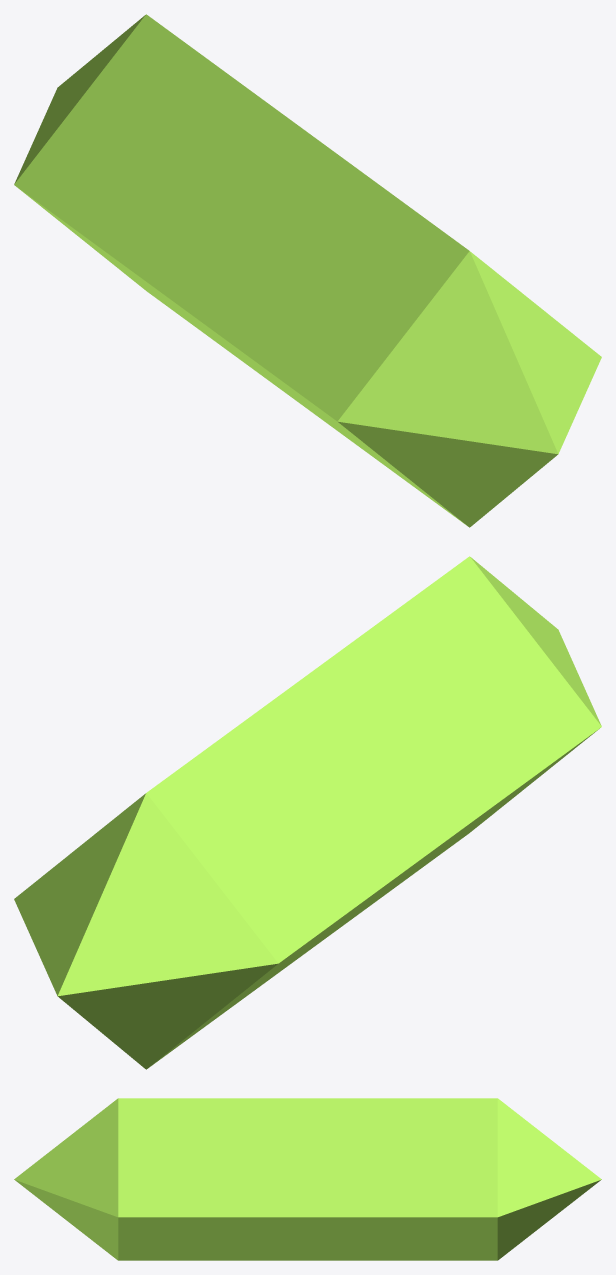
File: Raw Crystal.glb
3 views of the same model, one above another, from view 1: azimuth 30°, elevation 25°; view 2: azimuth 150°, elevation 25°; view 3: azimuth 270°, elevation 25° (orthographic). The views are drawn at different scales.
Parts seen in each view (by area): view 1: Origin Raw Crystal; view 2: Origin Raw Crystal; view 3: Origin Raw Crystal.
Part boxes in pixels (left/top/right/bottom): Origin Raw Crystal: left=14, top=14, right=601, bottom=527; Origin Raw Crystal: left=14, top=556, right=601, bottom=1069; Origin Raw Crystal: left=14, top=1098, right=601, bottom=1260.
Bounding box in the file's own units: 0.8163 × 0.8163 × 2.68.
